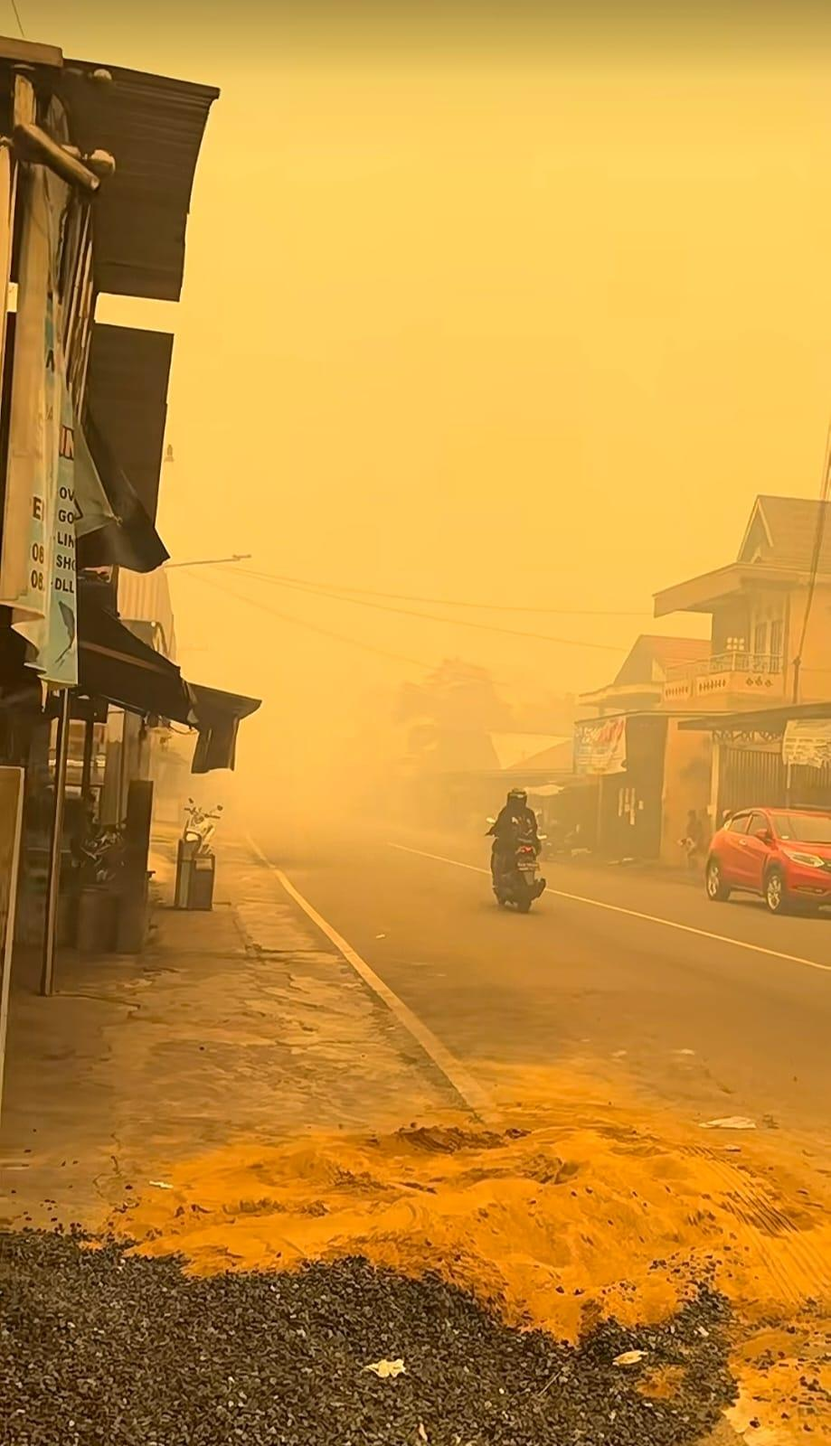Deteksi-Objek-Citra-Berasap: (163, 9, 830, 877)
Gedung: (0, 34, 262, 994), (652, 494, 830, 867), (573, 634, 729, 866)
Kendaraan: (704, 805, 830, 916), (487, 826, 547, 915)
Manusia: (486, 787, 539, 892), (680, 809, 704, 869)
Vegetasi: (182, 798, 222, 863)
